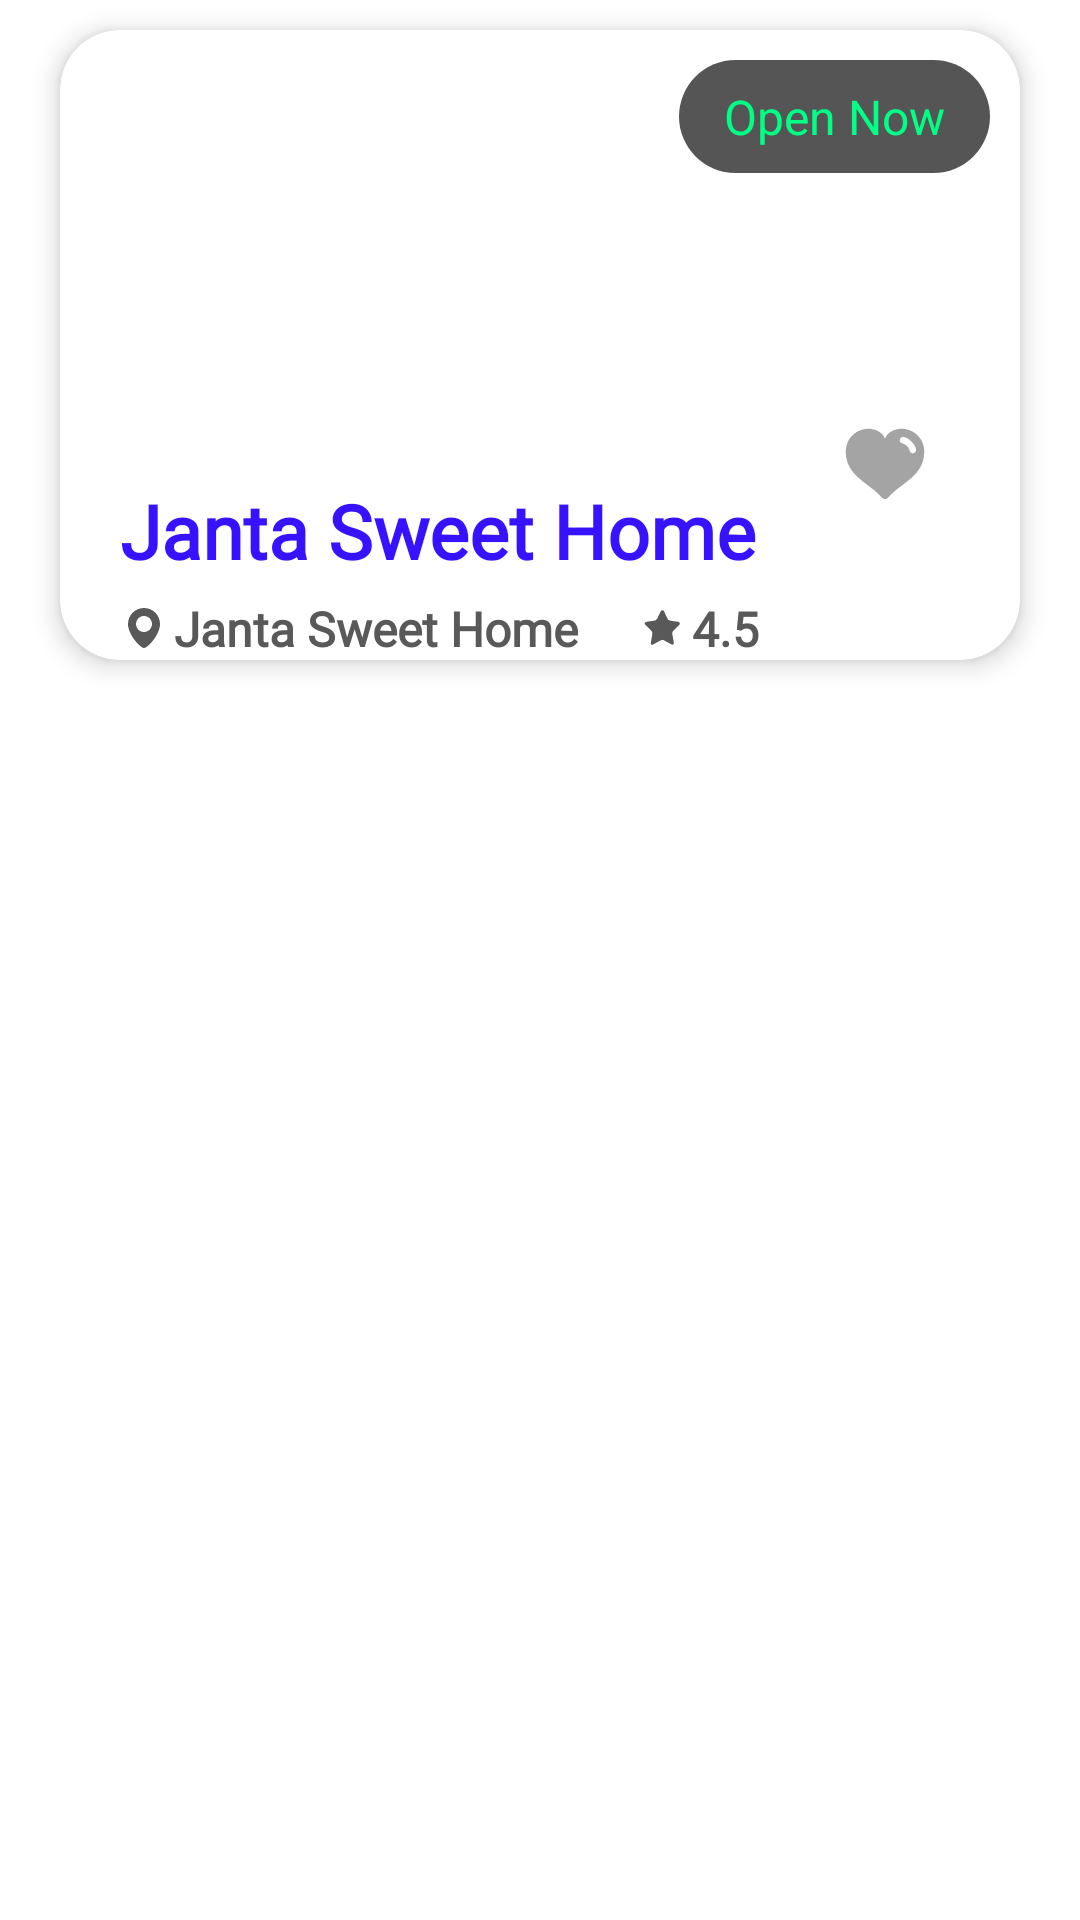

Icon bounding boxes for this 1080x1920 phone screenshot, format box=[x1, y1, x2, y2]:
like: box=[846, 429, 924, 499]
